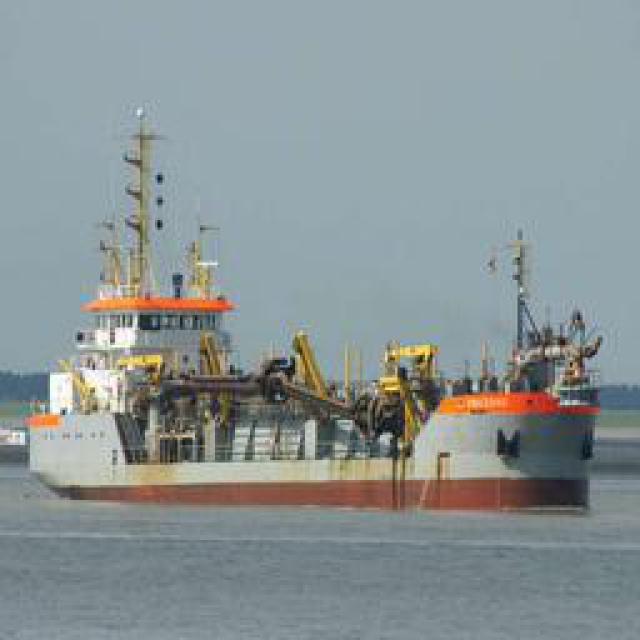Ship: (15, 229, 605, 512)
